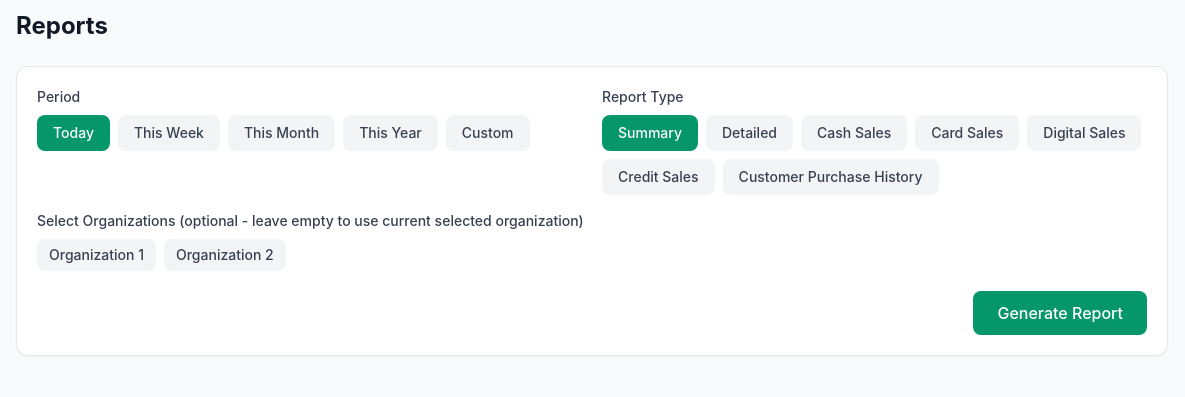
ReportsPage Multi-Organization Selection › should allow multi-org admin to select multiple organizations
// Select org2
Click the button "Organization 2". click: point(225, 255)
box: x1=164 y1=239 x2=286 y2=271
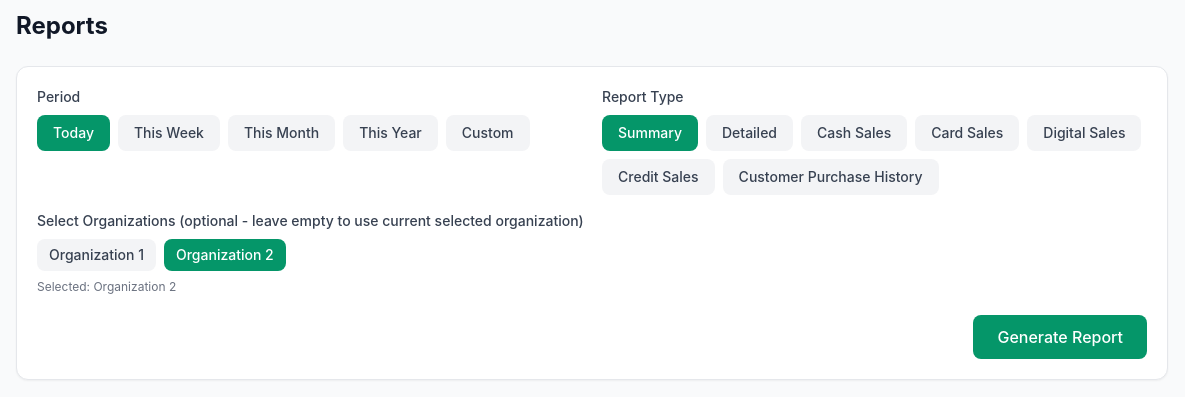
Expected: the text "Selected: Organization 2" is shown, x1=37 y1=279 x2=176 y2=294
